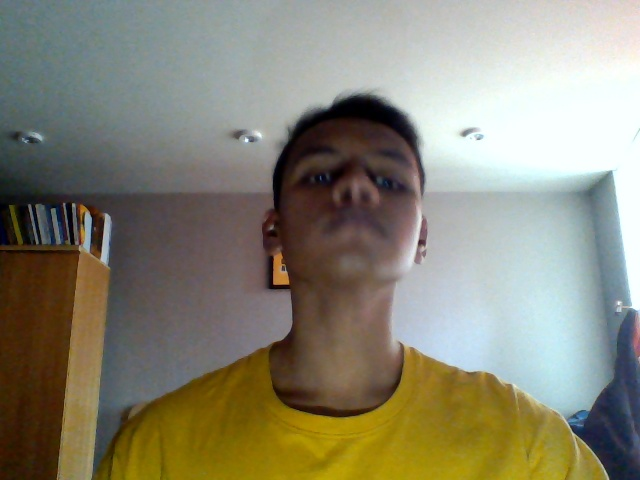no_mask: (273, 186, 432, 298)
